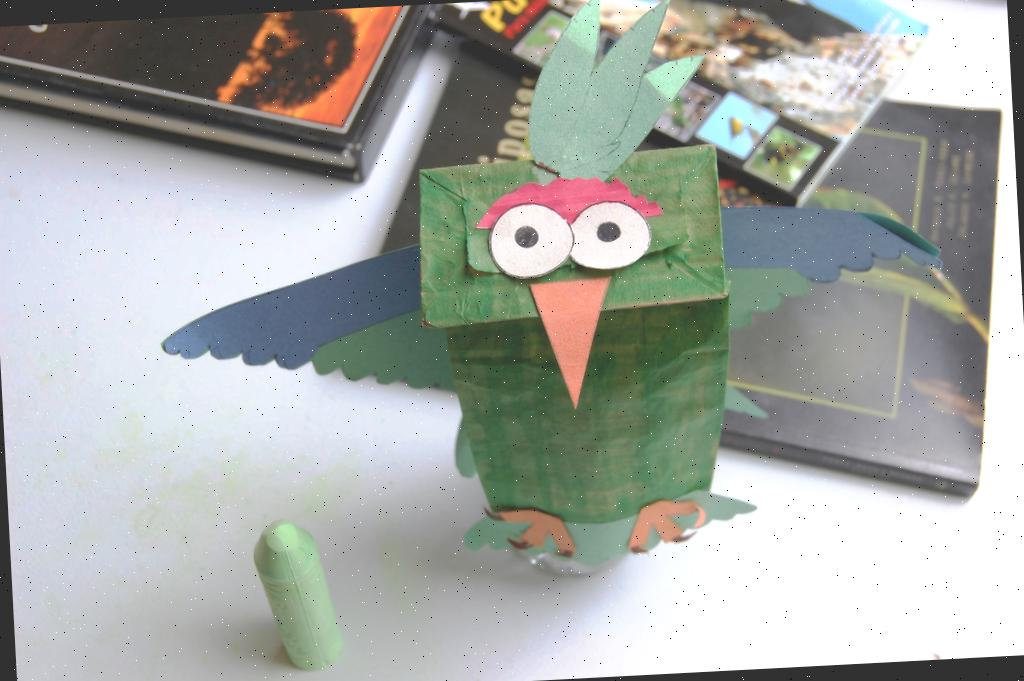Owl: (340, 94, 846, 598)
